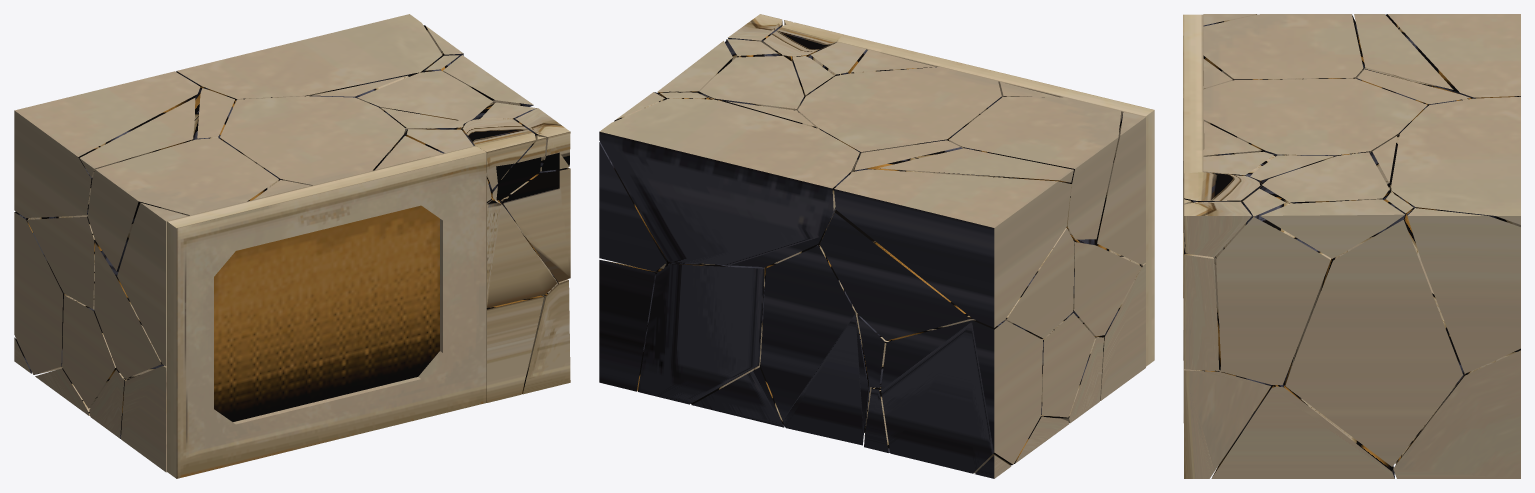
File: MicroWaveParts.fbx
3 renders of one model, left to right at view 1: azimuth 30°, elevation 25°; view 2: azimuth 150°, elevation 25°; view 3: azimuth 270°, elevation 25°, orthographic. The views are drawn at different scales.
Parts seen in each view (by area): view 1: MicroDoor, Microwave_cell.030, Microwave_cell.007, Microwave_cell.026, Microwave_cell.009, Microwave_cell.032, Microwave_cell.069, Microwave_cell.019, Microwave_cell.036, Microwave_cell.040, Microwave_cell.023, Microwave_cell.015 (+16 smaller); view 2: Microwave_cell.007, Microwave_cell.030, Microwave_cell.032, Microwave_cell.076, Microwave_cell.069, Microwave_cell.006, Microwave_cell.026, Microwave_cell.009, Microwave_cell.002, MicroDoor, Microwave_cell.019, Microwave_cell.003 (+18 smaller); view 3: Microwave_cell.028, Microwave_cell.041, Microwave_cell.007, Microwave_cell.026, Microwave_cell.003, Microwave_cell.002, Microwave_cell, Microwave_cell.009, Microwave_cell.030, Microwave_cell.013, Microwave_cell.001, Microwave_cell.038 (+12 smaller).
Boxes of the visible parts, left/top/right/bottom form: MicroDoor: left=167, top=145, right=486, bottom=478; Microwave_cell.030: left=14, top=71, right=200, bottom=217; Microwave_cell.007: left=176, top=14, right=442, bottom=100; Microwave_cell.026: left=220, top=96, right=405, bottom=185; Microwave_cell.009: left=87, top=138, right=279, bottom=271; Microwave_cell.032: left=14, top=211, right=66, bottom=374; Microwave_cell.069: left=27, top=88, right=235, bottom=309; Microwave_cell.019: left=117, top=202, right=187, bottom=366; Microwave_cell.036: left=501, top=167, right=570, bottom=282; Microwave_cell.040: left=486, top=196, right=556, bottom=307; Microwave_cell.023: left=486, top=295, right=543, bottom=402; Microwave_cell.015: left=94, top=242, right=163, bottom=378; Microwave_cell.007: left=599, top=98, right=859, bottom=266; Microwave_cell.030: left=834, top=169, right=1071, bottom=327; Microwave_cell.032: left=881, top=320, right=1042, bottom=473; Microwave_cell.076: left=760, top=230, right=868, bottom=445; Microwave_cell.069: left=820, top=140, right=1074, bottom=341; Microwave_cell.006: left=638, top=264, right=765, bottom=404; Microwave_cell.026: left=798, top=67, right=1001, bottom=159; Microwave_cell.009: left=949, top=96, right=1121, bottom=239; Microwave_cell.002: left=599, top=260, right=657, bottom=391; MicroDoor: left=835, top=34, right=1154, bottom=366; Microwave_cell.019: left=1097, top=111, right=1145, bottom=264; Microwave_cell.003: left=599, top=92, right=666, bottom=271; Microwave_cell.028: left=1285, top=191, right=1464, bottom=466; Microwave_cell.041: left=1213, top=185, right=1331, bottom=384; Microwave_cell.007: left=1391, top=96, right=1520, bottom=226; Microwave_cell.026: left=1203, top=78, right=1427, bottom=156; Microwave_cell.003: left=1407, top=208, right=1520, bottom=373; Microwave_cell.002: left=1393, top=348, right=1520, bottom=478; Microwave_cell: left=1211, top=384, right=1394, bottom=478; Microwave_cell.009: left=1203, top=14, right=1366, bottom=80; Microwave_cell.030: left=1385, top=14, right=1520, bottom=98; Microwave_cell.013: left=1184, top=369, right=1271, bottom=478; Microwave_cell.001: left=1260, top=199, right=1404, bottom=258; Microwave_cell.038: left=1262, top=152, right=1389, bottom=203.
Bounding box in the file's own units: 56.42 × 34.24 × 39.87.
